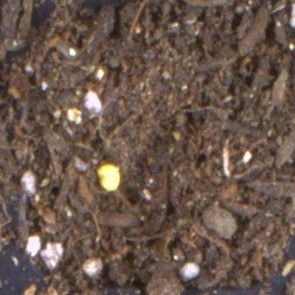chilli seed: (95, 164, 121, 191)
